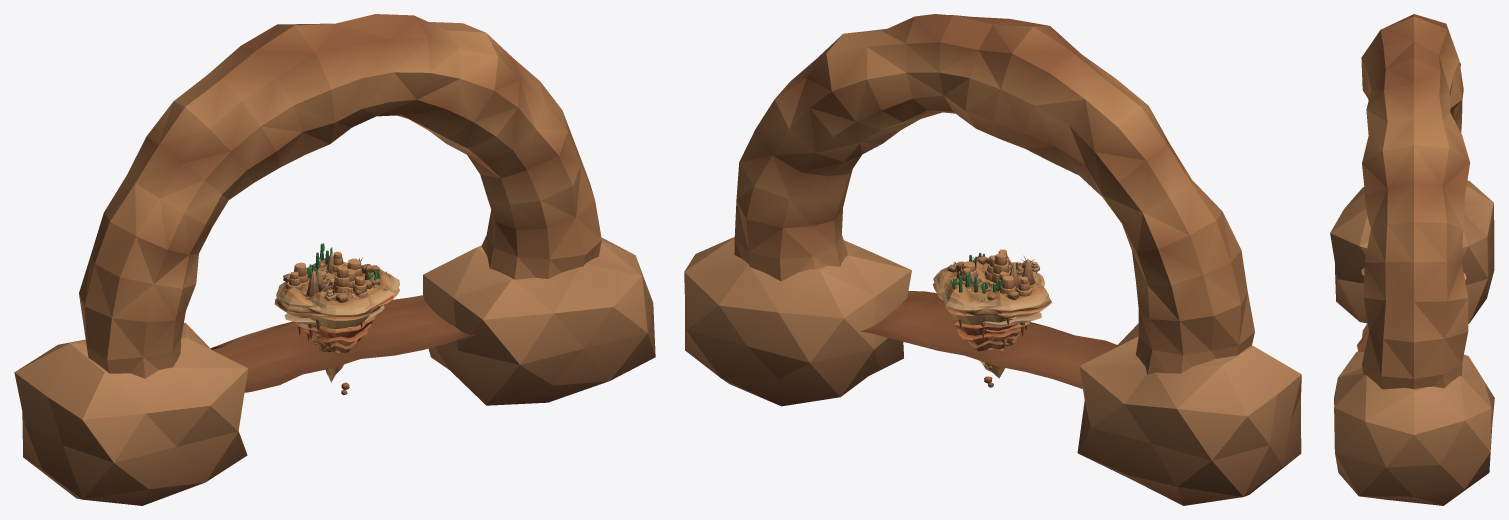
File: isle-gorge-B8j9SRE5.glb
The picture shows the model from 3 angles, left to right: view 1: azimuth 30°, elevation 25°; view 2: azimuth 150°, elevation 25°; view 3: azimuth 270°, elevation 25°; orthographic projection. The views are drawn at different scales.
Parts seen in each view (by area): view 1: far, isle_2, isle_1, isle_0; view 2: far, isle_2, isle_1; view 3: far.
Part boxes in pixels (box(x1,y1,x2,y2)): far: box(14, 14, 655, 505); isle_2: box(283, 243, 382, 394); isle_1: box(274, 250, 400, 342); isle_0: box(294, 253, 395, 327); far: box(684, 14, 1301, 505); isle_2: box(941, 254, 1044, 387); isle_1: box(933, 253, 1051, 369); far: box(1330, 14, 1494, 505).
Bounding box in the file's own units: 559 × 376 × 153.
